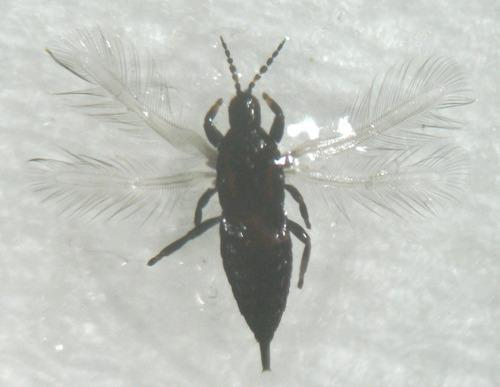Phlaeothripidae: (36, 21, 474, 379)
